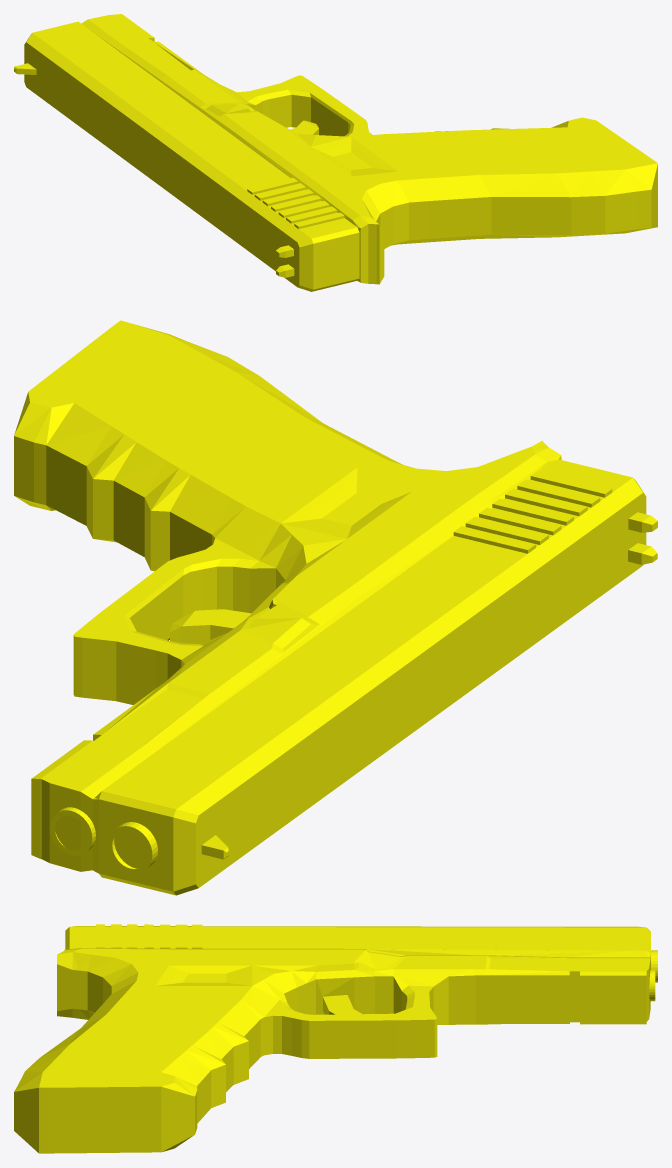
Rendered from Glock3d.dae.
3 renders of one model, top to bottom at view 1: azimuth 30°, elevation 25°; view 2: azimuth 150°, elevation 25°; view 3: azimuth 270°, elevation 25°, orthographic. The views are drawn at different scales.
Visible parts, largest first — view 1: Grip; view 2: Grip; view 3: Grip.
Boxes of the visible parts, x1,y1,x2,y2 form: Grip: [14, 14, 657, 291]; Grip: [14, 320, 657, 895]; Grip: [14, 924, 657, 1153].
Size of the model in its own units: 3.2 by 0.5504 by 4.88.
